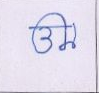i_matra: (50, 12, 74, 51)
